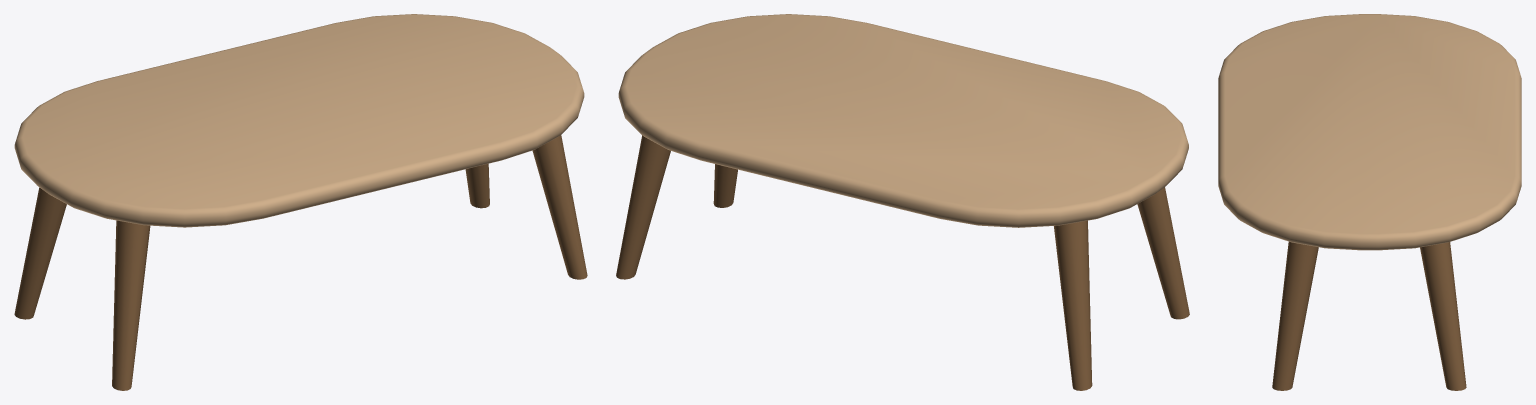
File: Coffee-Table-2.fbx
The picture shows the model from 3 angles, left to right: view 1: azimuth 30°, elevation 25°; view 2: azimuth 150°, elevation 25°; view 3: azimuth 270°, elevation 25°; orthographic projection. The views are drawn at different scales.
Visible parts, largest first — view 1: Coffee-Table; view 2: Coffee-Table; view 3: Coffee-Table.
Boxes of the visible parts, x1,y1,x2,y2 form: Coffee-Table: (14, 14, 587, 390); Coffee-Table: (616, 14, 1189, 390); Coffee-Table: (1218, 14, 1521, 390).
Size of the model in its own units: 2.5 by 0.846 by 1.42.
